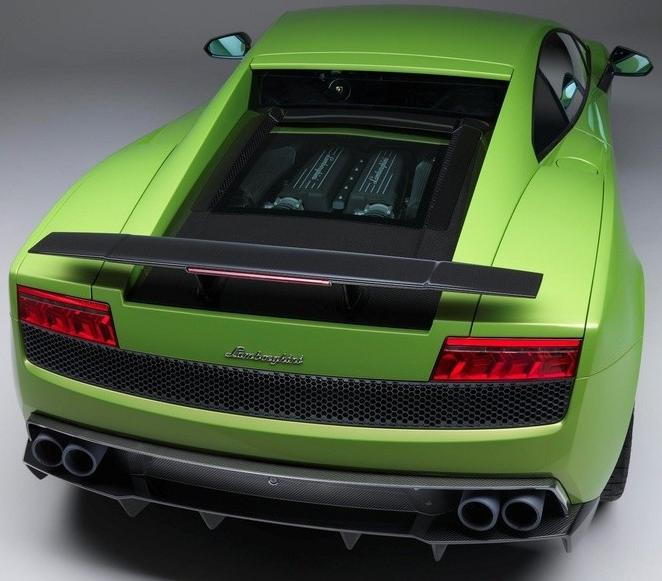back_view: (0, 256, 590, 556)
backlight: (433, 330, 587, 390)
